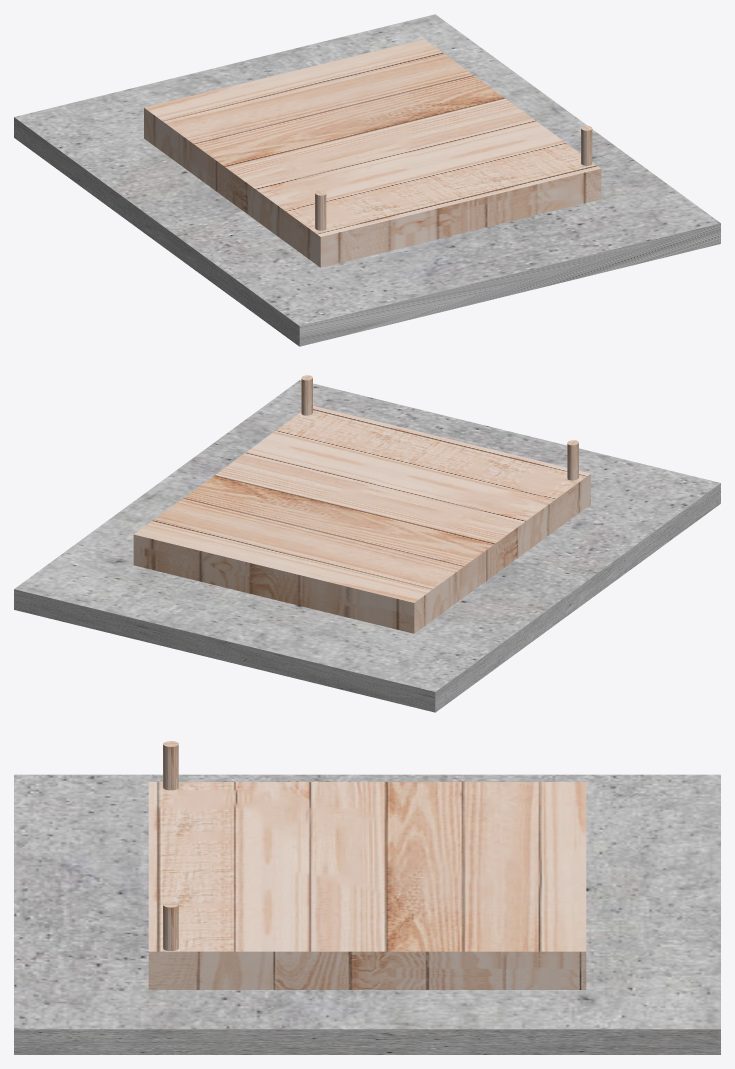
File: tablado3-2-COMPRESS.gltf
3 renders of one model, top to bottom at view 1: azimuth 30°, elevation 25°; view 2: azimuth 150°, elevation 25°; view 3: azimuth 270°, elevation 25°, orthographic. The views are drawn at different scales.
Visible parts, largest first — view 1: Cube.002, Cube.001; view 2: Cube.002, Cube.001; view 3: Cube.002, Cube.001, Cylinder.002, Cylinder.000.
Part boxes in pixels (bbox=[...]): Cube.002: bbox=[14, 14, 720, 346]; Cube.001: bbox=[144, 39, 601, 267]; Cube.002: bbox=[14, 380, 720, 712]; Cube.001: bbox=[133, 405, 590, 633]; Cube.002: bbox=[14, 774, 720, 1054]; Cube.001: bbox=[148, 782, 586, 989]; Cylinder.002: bbox=[163, 741, 178, 790]; Cylinder.000: bbox=[163, 901, 178, 950].
Size of the model in its own units: 3.63 by 0.7136 by 4.26.
Materials: 4 (4 with a texture image).
